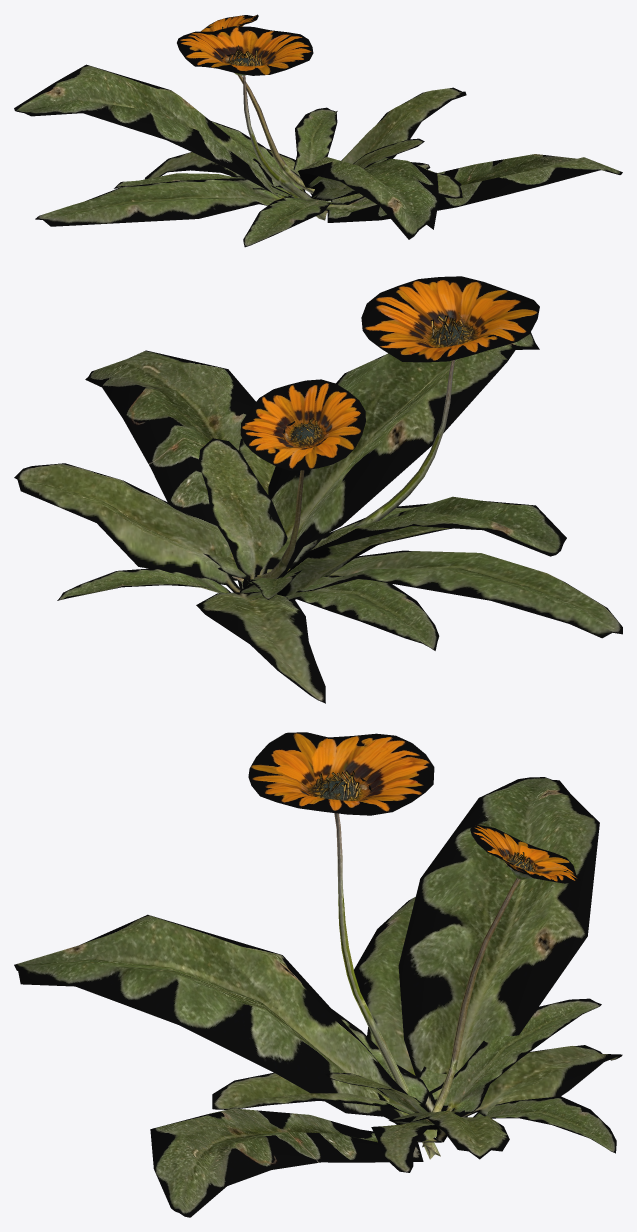
Rendered from flower_gazania_01.glb.
3 views of the same model, one above another, from view 1: azimuth 30°, elevation 25°; view 2: azimuth 150°, elevation 25°; view 3: azimuth 270°, elevation 25° (orthographic). The views are drawn at different scales.
Visible parts, largest first — view 1: flower_gazania; view 2: flower_gazania; view 3: flower_gazania.
Part boxes in pixels (x1,y1,x2,y2): flower_gazania: (14, 14, 622, 247); flower_gazania: (14, 276, 622, 703); flower_gazania: (14, 732, 622, 1217).
Size of the model in its own units: 0.2409 by 0.1074 by 0.186.
Materials: 1 (1 with a texture image).
